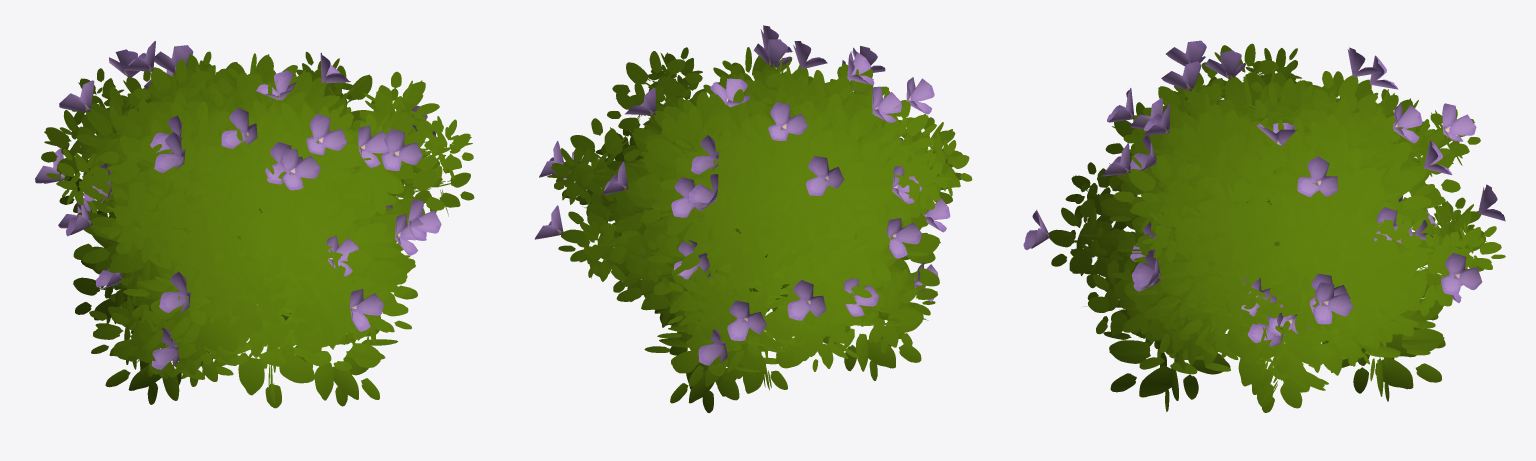
The model's file is arbusto_flores.obj.
3 renders of one model, left to right at view 1: azimuth 30°, elevation 25°; view 2: azimuth 150°, elevation 25°; view 3: azimuth 270°, elevation 25°, orthographic. The views are drawn at different scales.
Visible parts, largest first — view 1: Bush_Common_Flowers; view 2: Bush_Common_Flowers; view 3: Bush_Common_Flowers.
Part boxes in pixels (x1=…): Bush_Common_Flowers: x1=35, y1=41, x2=474, y2=408; Bush_Common_Flowers: x1=535, y1=25, x2=972, y2=412; Bush_Common_Flowers: x1=1023, y1=40, x2=1505, y2=412.
Bounding box in the file's own units: 1.91 × 1.58 × 1.97.
2 materials, 2 textured.
